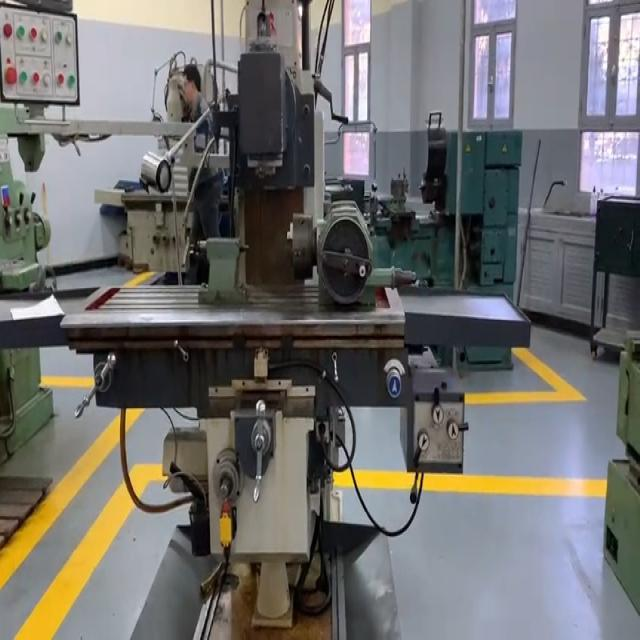fraiseuse: (0, 0, 530, 637)
